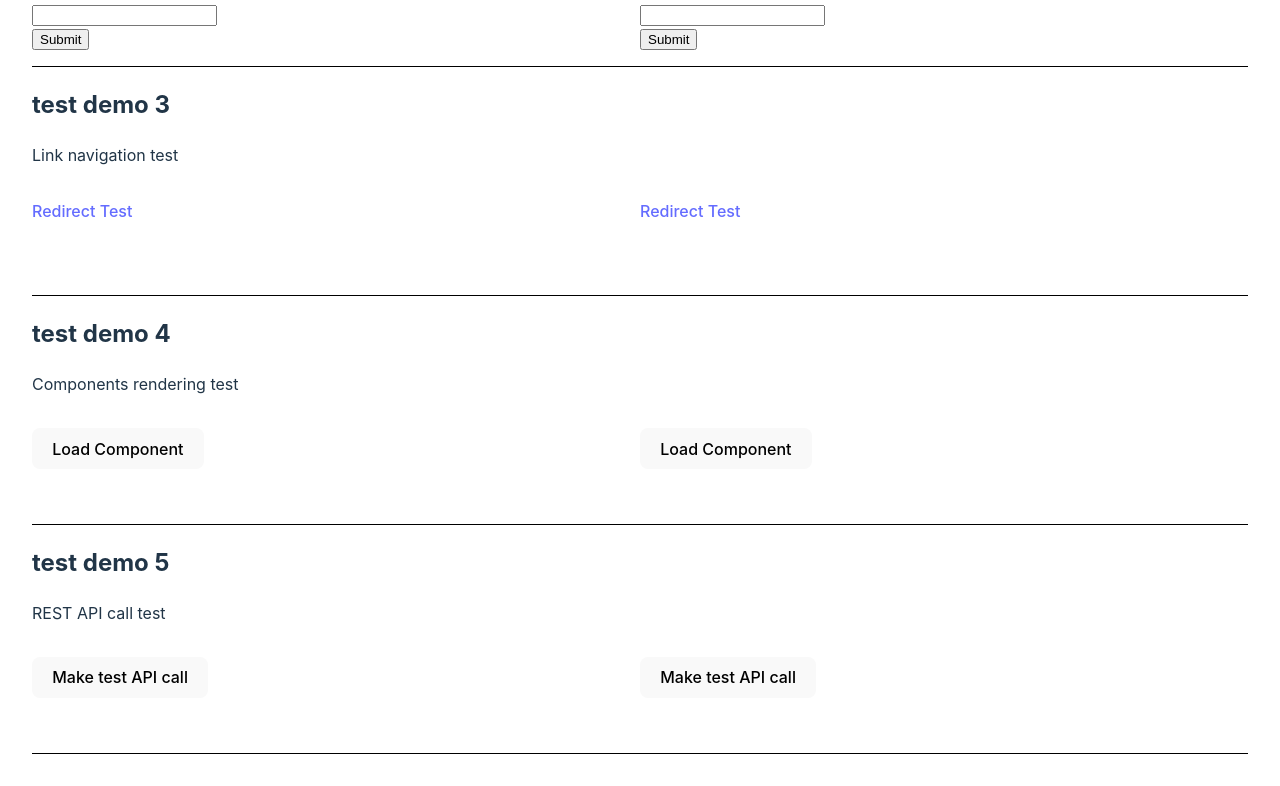
Test: Test Website Home Page › Component Load Tests › Loads Component Correctly
(page scrolled)
Click the 1st button "Load Component" at (118, 449), box [32,428,204,469]
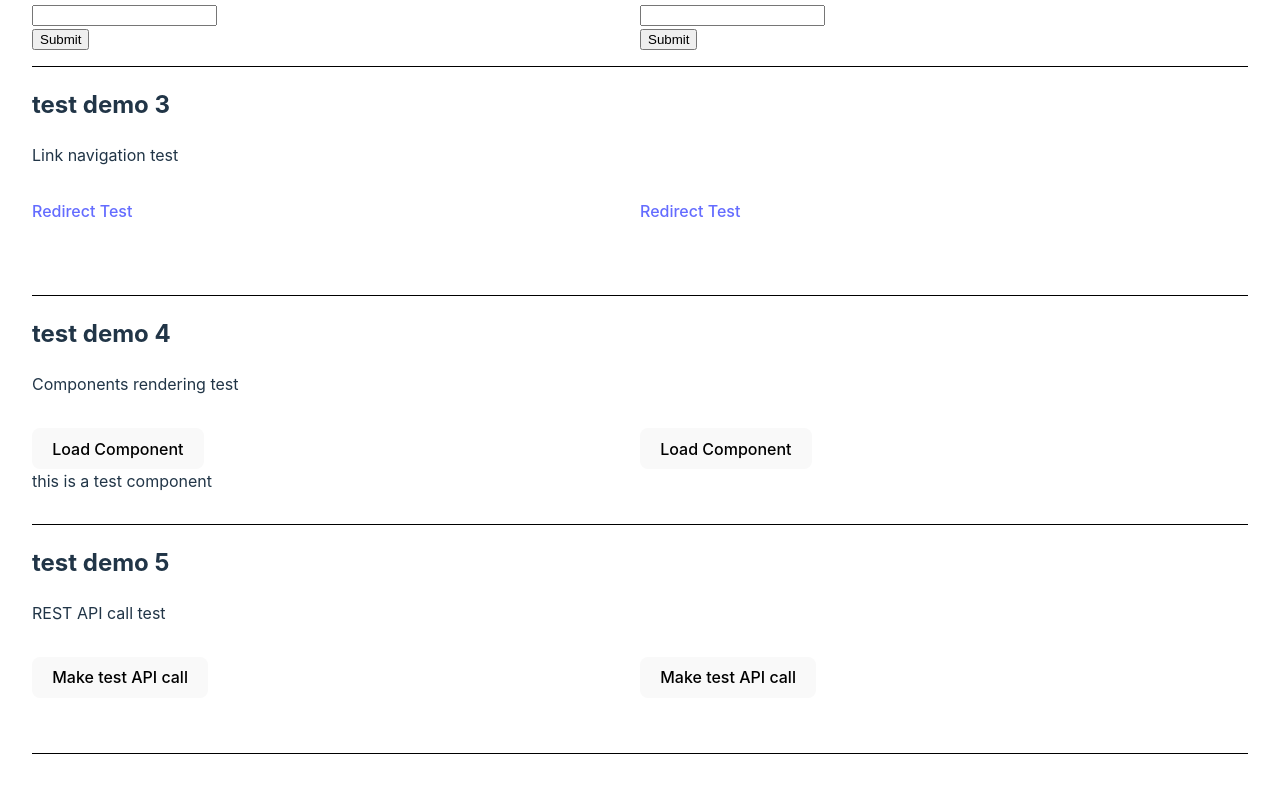
Check: the text "this is a test component" is shown, box [32,471,212,491]
